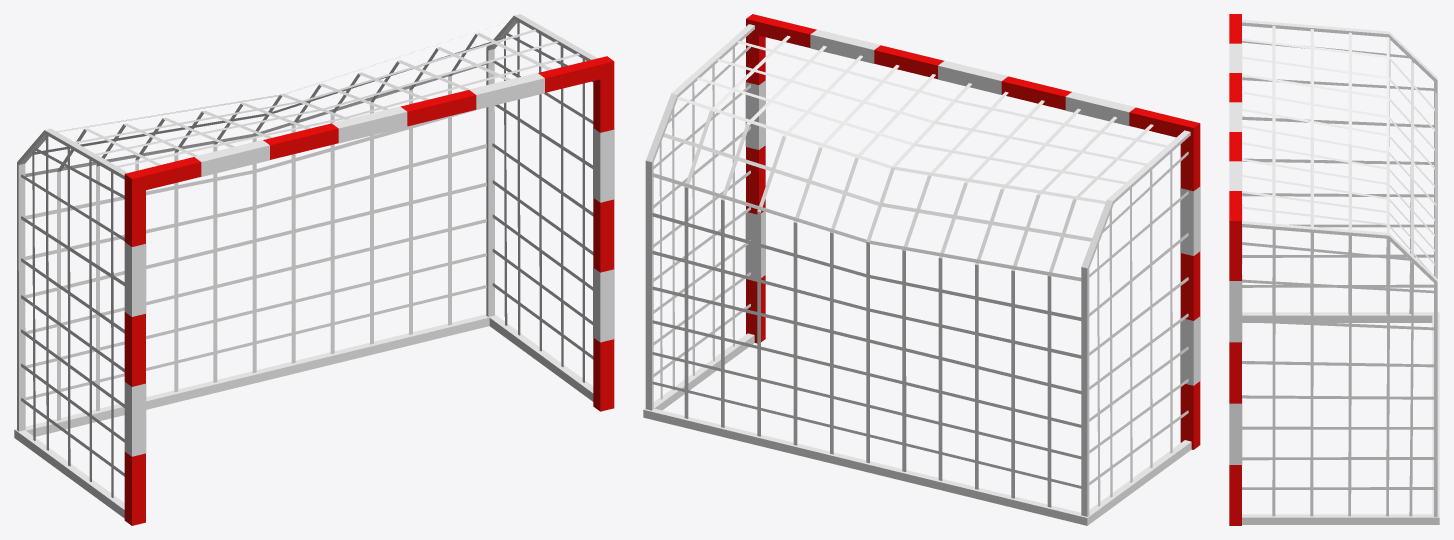
The model's file is HandballGoal.fbx.
3 renders of one model, left to right at view 1: azimuth 30°, elevation 25°; view 2: azimuth 150°, elevation 25°; view 3: azimuth 270°, elevation 25°, orthographic. The views are drawn at different scales.
Parts seen in each view (by area): view 1: HandballGoal; view 2: HandballGoal; view 3: HandballGoal.
Boxes of the visible parts, bbox=[...] form: HandballGoal: bbox=[14, 14, 614, 525]; HandballGoal: bbox=[643, 14, 1200, 525]; HandballGoal: bbox=[1229, 14, 1439, 525].
Size of the model in its own units: 347 by 239 by 149.
